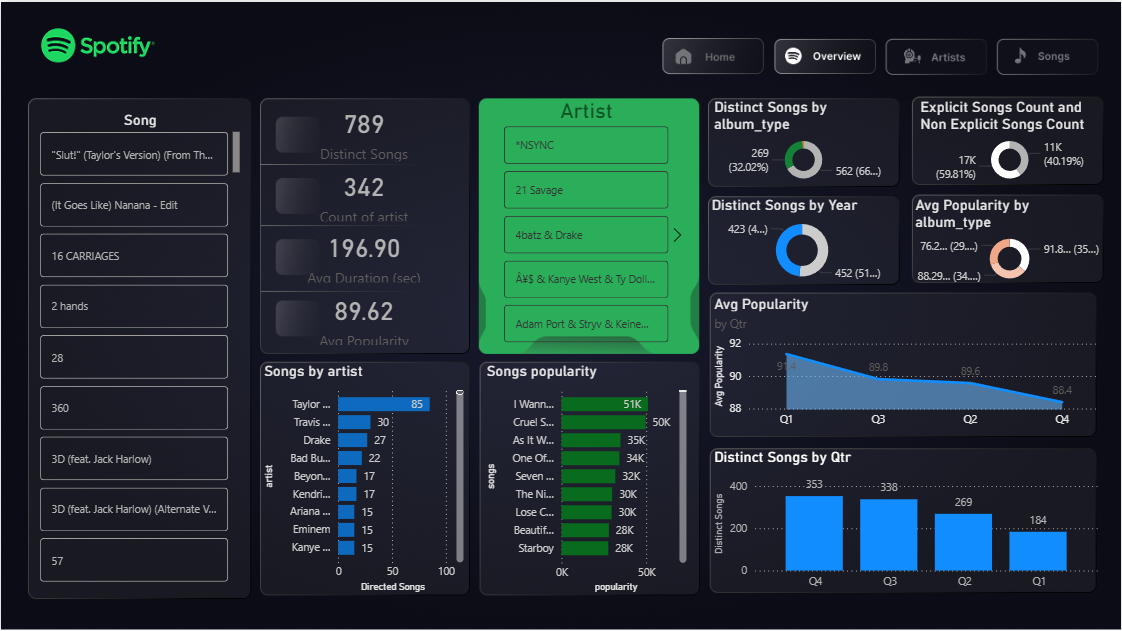

What the dashboard file says about the page in this screenshot:
{"tool":"powerbi","page":{"name":"Page 1","canvas":[1280,720],"ordinal":0},"visuals":[{"type":"clusteredBarChart","title":"Songs by artist","fields":{"Category":["Top-50-world.artist"],"Y":["Top-50-world.Distinct Songs"]},"box":[296,412,238,268],"z":0},{"type":"clusteredBarChart","title":"Songs popularity","fields":{"Category":["Top-50-world.song"],"Y":["Sum(Top-50-world.popularity)"]},"box":[550,411.4,238.6,268.6],"z":1000},{"type":"areaChart","fields":{"Category":["Top-50-world.Qtr"],"Y":["Top-50-world.Avg Popularity"]},"box":[810,334.3,450,160],"z":2000},{"type":"donutChart","fields":{"Y":["Top-50-world.Distinct Songs"],"Category":["Top-50-world.album_type"]},"box":[809.7,109.4,214.7,102.6],"z":3000},{"type":"donutChart","fields":{"Y":["Top-50-world.Explicit Songs Count","Top-50-world.Non Explicit Songs Count"]},"box":[1045,109.4,214.7,102.6],"z":4000},{"type":"donutChart","fields":{"Y":["Top-50-world.Distinct Songs"],"Category":["Top-50-world.Year"]},"box":[807.1,221.4,217.1,105.7],"z":5000},{"type":"donutChart","fields":{"Category":["Top-50-world.album_type"],"Y":["Top-50-world.Avg Popularity"]},"box":[1040,221.4,225.7,105.7],"z":6000},{"type":"columnChart","fields":{"Category":["Top-50-world.Qtr"],"Y":["Top-50-world.Distinct Songs"]},"box":[810,510,450,170],"z":7000},{"type":"card","fields":{"Values":["Top-50-world.Distinct Songs"]},"box":[295.7,110,238.6,77.1],"z":8000},{"type":"card","fields":{"Values":["Count(Top-50-world.artist)"]},"box":[295.7,185.7,238.6,70],"z":9000},{"type":"card","fields":{"Values":["Top-50-world.Avg Duration (sec)"]},"box":[295.7,255.7,238.6,70],"z":10000},{"type":"card","fields":{"Values":["Top-50-world.Avg Popularity"]},"box":[295.7,327.1,238.6,70],"z":11000},{"type":"advancedSlicerVisual","title":"Song","fields":{"Values":["Top-50-world.song"]},"box":[40,124.3,238.6,545.7],"z":12000},{"type":"advancedSlicerVisual","title":"Artist","fields":{"Values":["Top-50-world.artist"]},"box":[550,110,238.6,287.1],"z":13000}]}

Visuals, with their boxes on the page's 1280x720 design canvas (x1, y1, x2, y2). These are canvas units, not pixel positions in the 1122x631 screenshot, which may show the page scaled, cropped or inside an application window:
"Songs by artist" clusteredBarChart: box(296, 412, 534, 680)
"Songs popularity" clusteredBarChart: box(550, 411, 789, 680)
areaChart - Top-50-world.Qtr x Top-50-world.Avg Popularity: box(810, 334, 1260, 494)
donutChart - Top-50-world.Distinct Songs x Top-50-world.album_type: box(810, 109, 1024, 212)
donutChart - Top-50-world.Explicit Songs Count x Top-50-world.Non Explicit Songs Count: box(1045, 109, 1260, 212)
donutChart - Top-50-world.Distinct Songs x Top-50-world.Year: box(807, 221, 1024, 327)
donutChart - Top-50-world.album_type x Top-50-world.Avg Popularity: box(1040, 221, 1266, 327)
columnChart - Top-50-world.Qtr x Top-50-world.Distinct Songs: box(810, 510, 1260, 680)
card - Top-50-world.Distinct Songs: box(296, 110, 534, 187)
card - Count(Top-50-world.artist): box(296, 186, 534, 256)
card - Top-50-world.Avg Duration (sec): box(296, 256, 534, 326)
card - Top-50-world.Avg Popularity: box(296, 327, 534, 397)
"Song" advancedSlicerVisual: box(40, 124, 279, 670)
"Artist" advancedSlicerVisual: box(550, 110, 789, 397)
